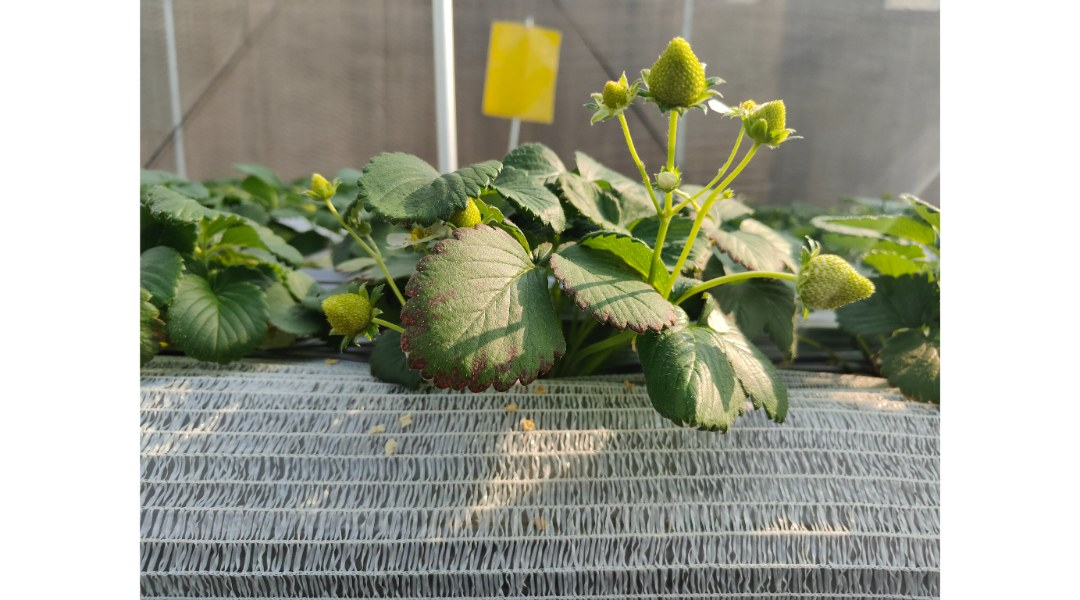berry: (775, 227, 887, 325), (642, 17, 711, 121), (307, 282, 382, 343), (745, 92, 796, 152), (580, 66, 636, 120), (643, 158, 697, 189), (300, 168, 335, 205)
strain: (685, 261, 795, 312), (612, 116, 654, 201), (661, 108, 687, 192), (673, 214, 698, 288), (715, 157, 755, 203), (650, 218, 665, 284)
